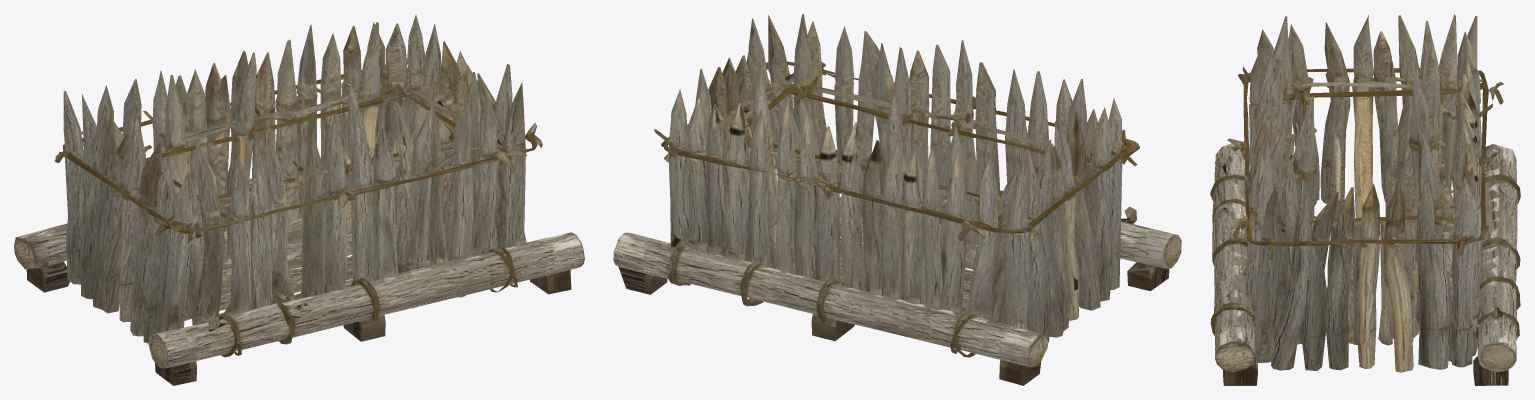
File: barricade.glb
The picture shows the model from 3 angles, left to right: view 1: azimuth 30°, elevation 25°; view 2: azimuth 150°, elevation 25°; view 3: azimuth 270°, elevation 25°; orthographic projection. The views are drawn at different scales.
Parts seen in each view (by area): view 1: Mesh_0; view 2: Mesh_0; view 3: Mesh_0.
Part boxes in pixels (x1,y1,x2,y2): Mesh_0: (14, 15, 584, 385); Mesh_0: (613, 14, 1181, 385); Mesh_0: (1210, 14, 1520, 385).
Size of the model in its own units: 1.9 by 0.9575 by 1.26.
1 material, 1 textured.
